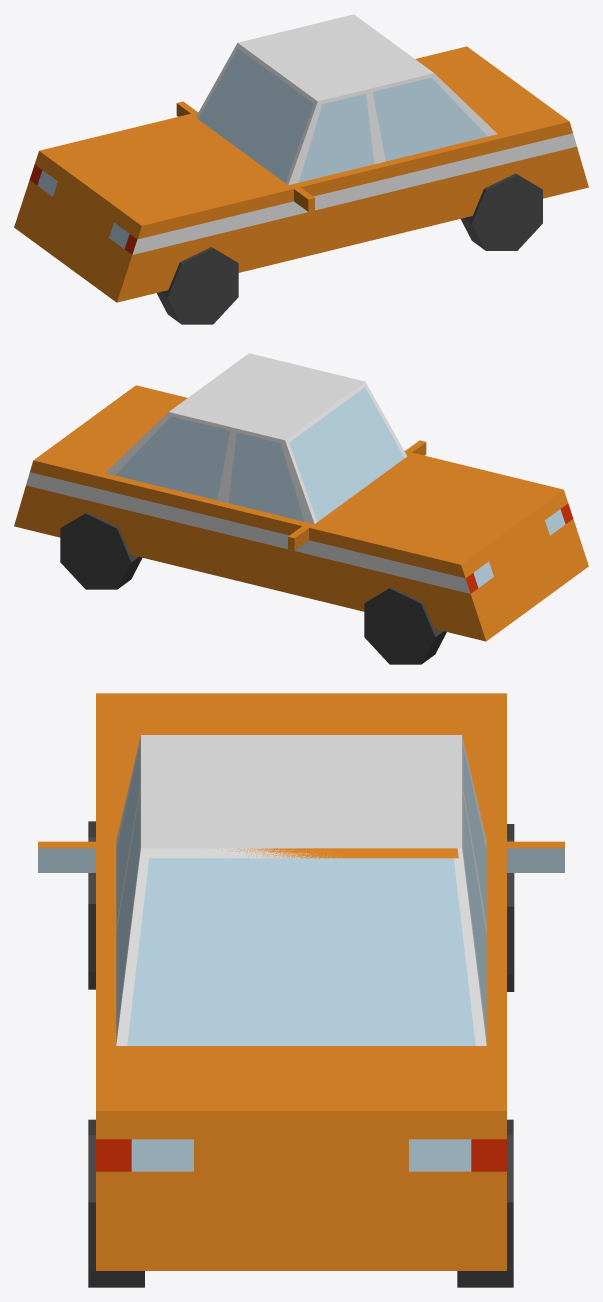
Rendered from vintage_car.fbx.
3 views of the same model, one above another, from view 1: azimuth 30°, elevation 25°; view 2: azimuth 150°, elevation 25°; view 3: azimuth 270°, elevation 25° (orthographic). The views are drawn at different scales.
Visible parts, largest first — view 1: Cube, Cylinder.001, Cylinder.002; view 2: Cube, Cylinder, Cylinder.003; view 3: Cube, Cylinder.002, Cylinder.003, Cylinder.001, Cylinder.
Boxes of the visible parts, box(x1,y1,x2,y2) form: Cube: box(14, 14, 588, 302); Cylinder.001: box(157, 247, 238, 324); Cylinder.002: box(461, 173, 542, 250); Cube: box(14, 353, 588, 641); Cylinder: box(364, 587, 446, 664); Cylinder.003: box(60, 512, 142, 589); Cube: box(38, 693, 564, 1270); Cylinder.002: box(88, 1119, 144, 1287); Cylinder.003: box(457, 1119, 513, 1287); Cylinder.001: box(88, 821, 95, 989); Cylinder: box(507, 824, 514, 991).
Size of the model in its own units: 7 by 2.63 by 3.38.
